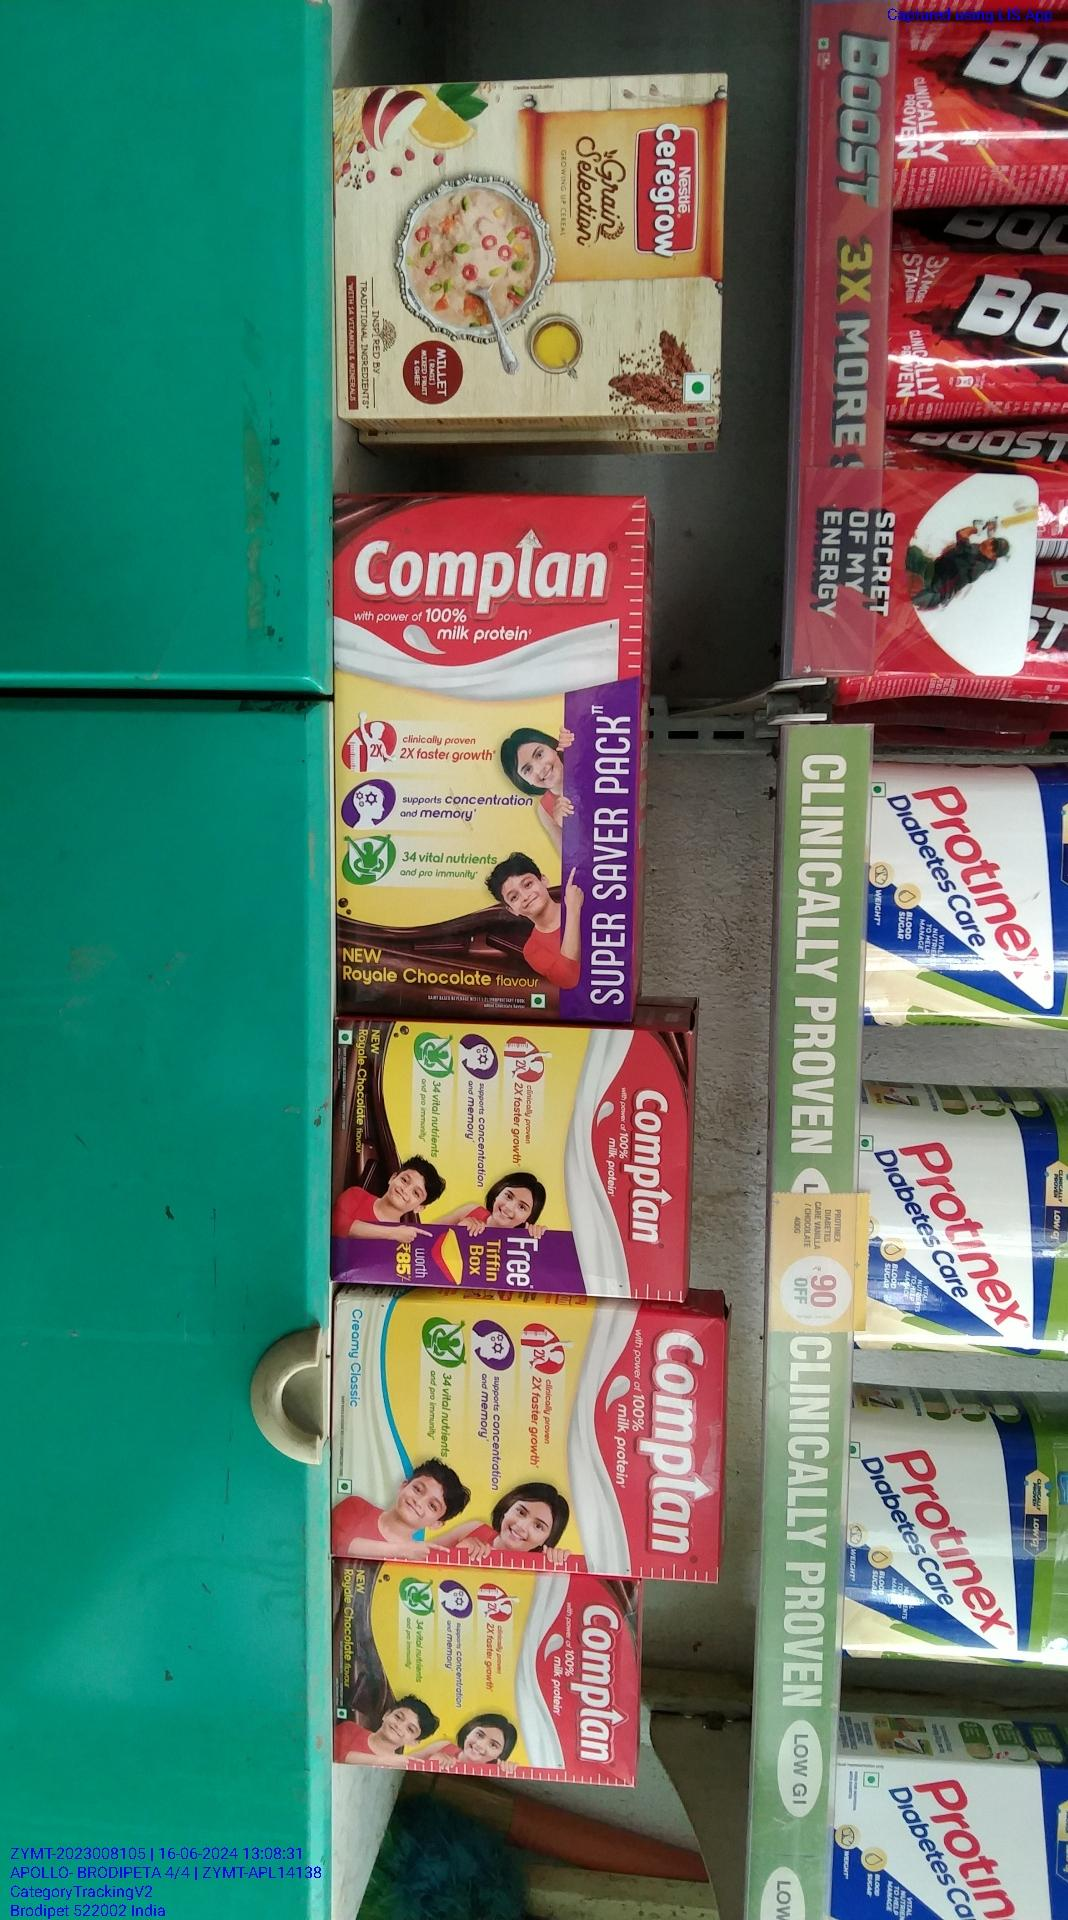COMPLAN_CHOCOLATE_1_KG_PACK: (334, 493, 633, 1023)
